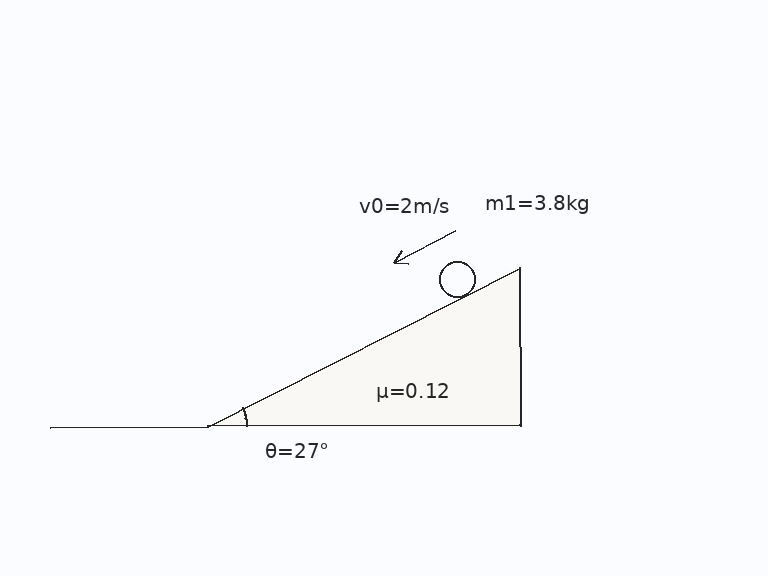ball: (437, 259, 477, 299)
ramp: (205, 265, 522, 428)
